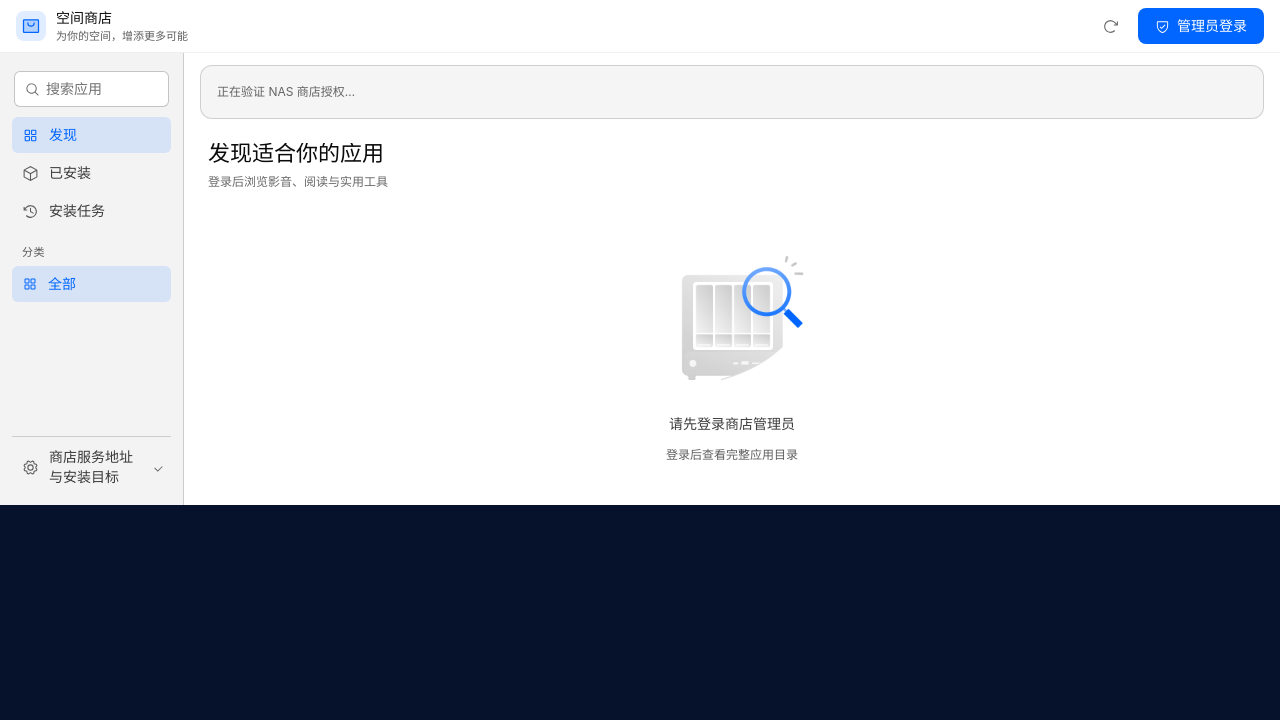
directs first-time embedded users to the independent shop and refreshes after creation
This screenshot has width=1280, height=720.
Step 1. Click the button "管理员登录" → coordinates (1201, 26), box [1138,8,1264,44]
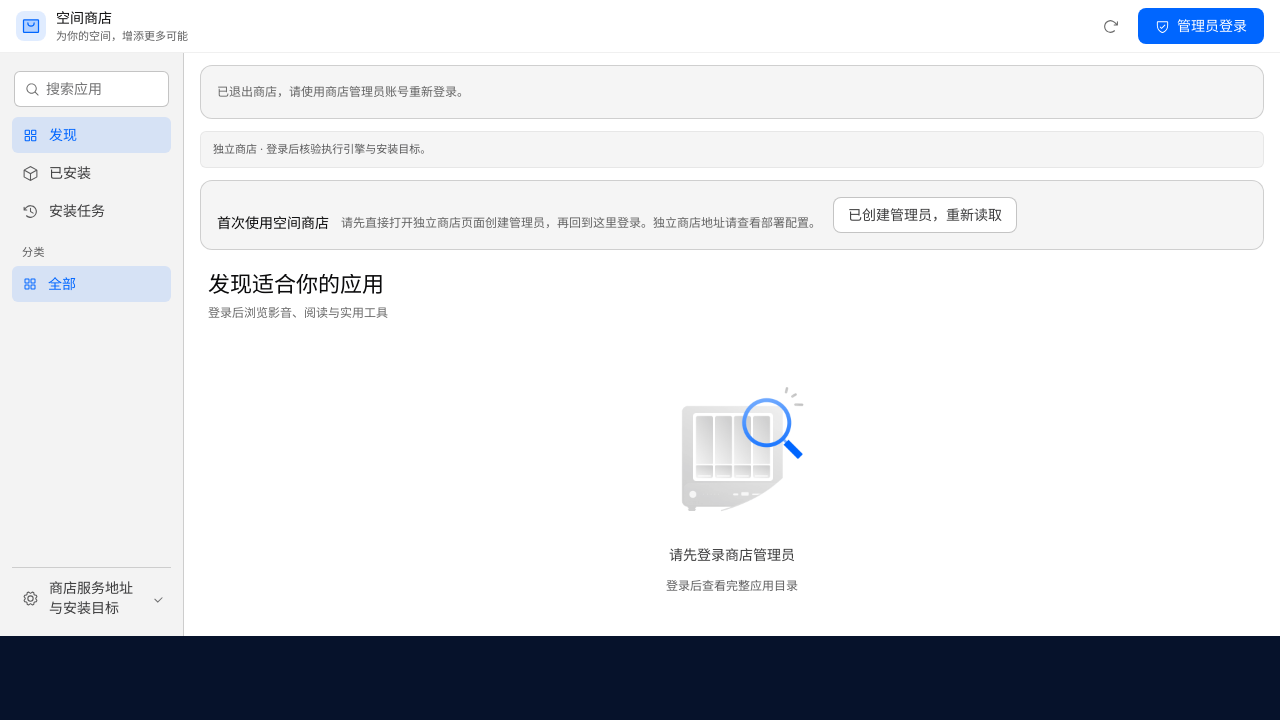
Expected: the field labelled "密码" is not shown
Expected: the text "请先直接打开独立商店页面创建管理员，再回到这里登录。独立商店地址请查看部署配置。" is shown, [341,213,821,233]
Step 2. Click the button "已创建管理员，重新读取" → coordinates (925, 215), box [833,197,1017,233]
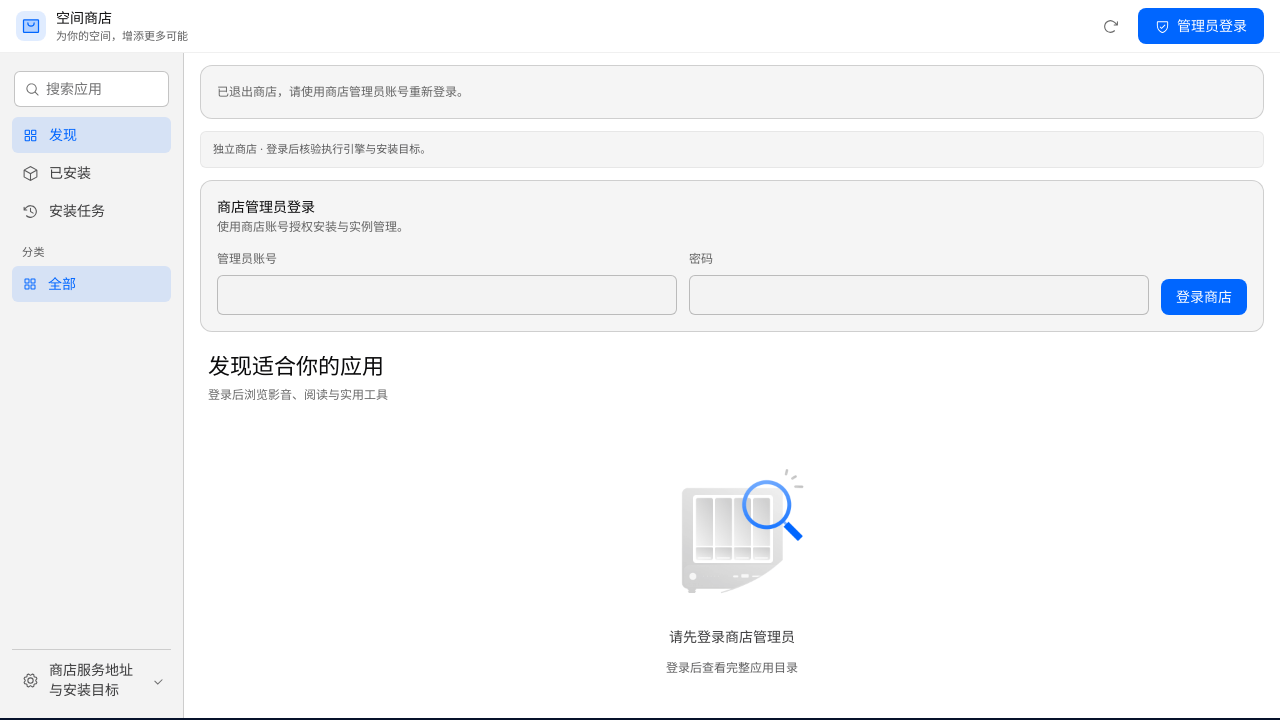
Expected: the button "登录商店" is enabled, [1161,280,1247,316]
